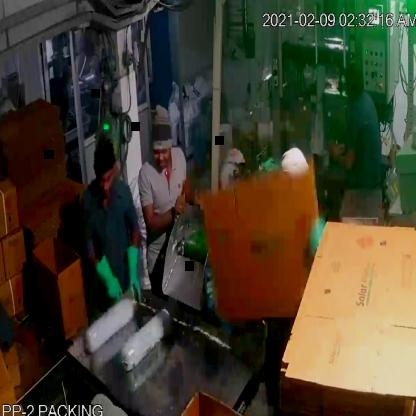glove: (90, 243, 122, 309), (122, 232, 143, 312)
no_glove: (136, 191, 192, 237), (327, 134, 359, 176)
